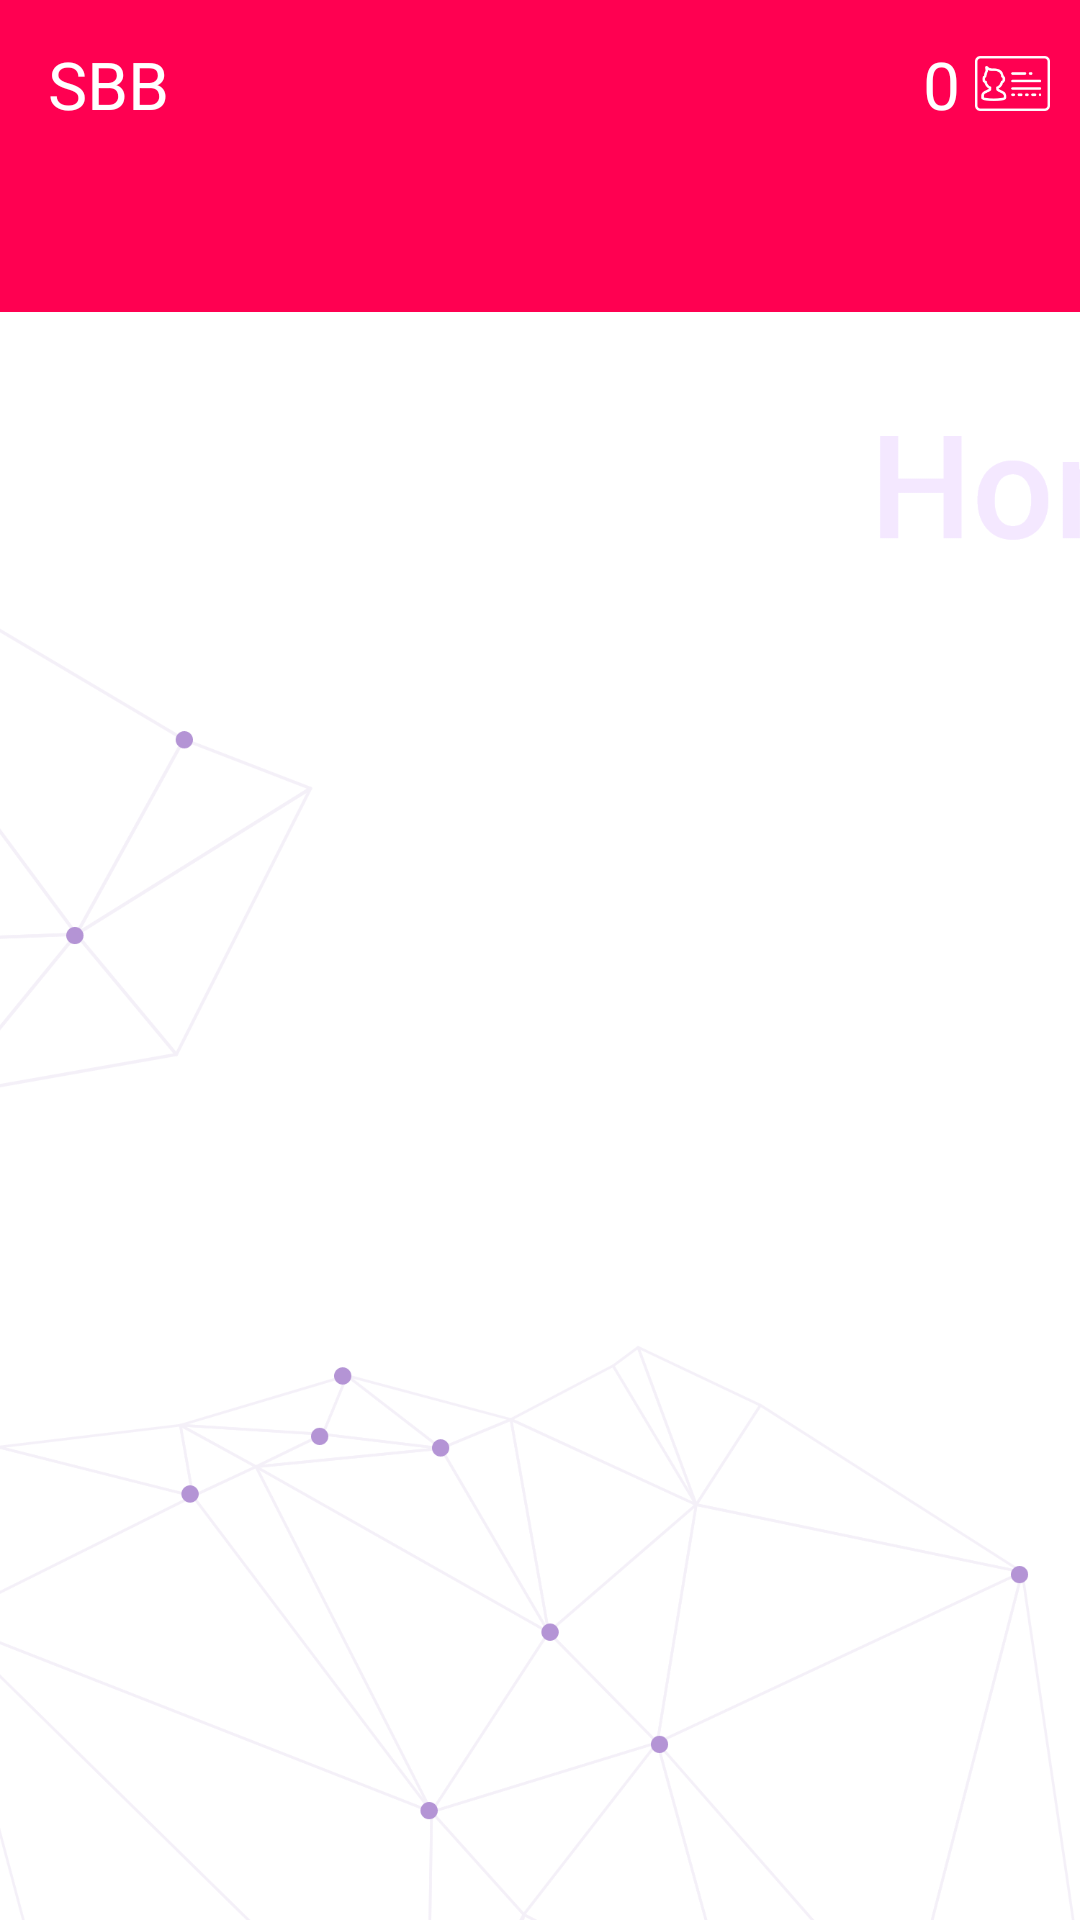

Icons on this 1080w x 1920h Android screen, each with the point to tap as (x,y):
id card: (1012,83)
